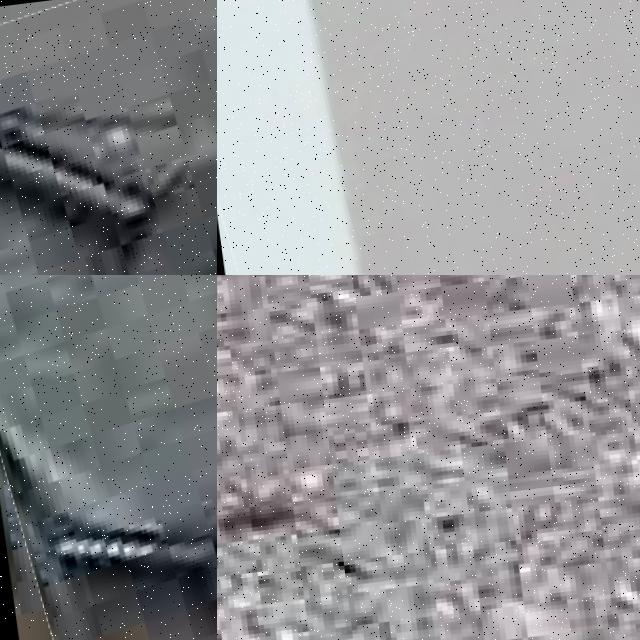drone: (217, 0, 640, 275), (0, 275, 217, 640), (0, 0, 217, 275)
